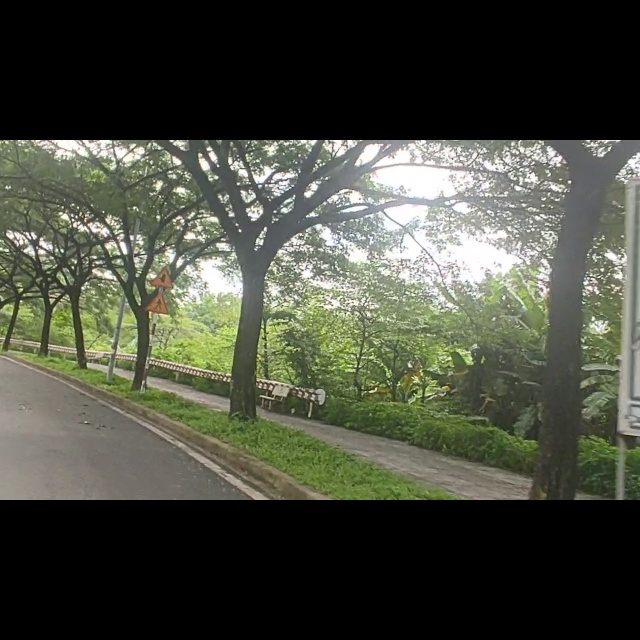bien_nguy_hiem: (144, 265, 175, 315), (147, 223, 177, 265)
